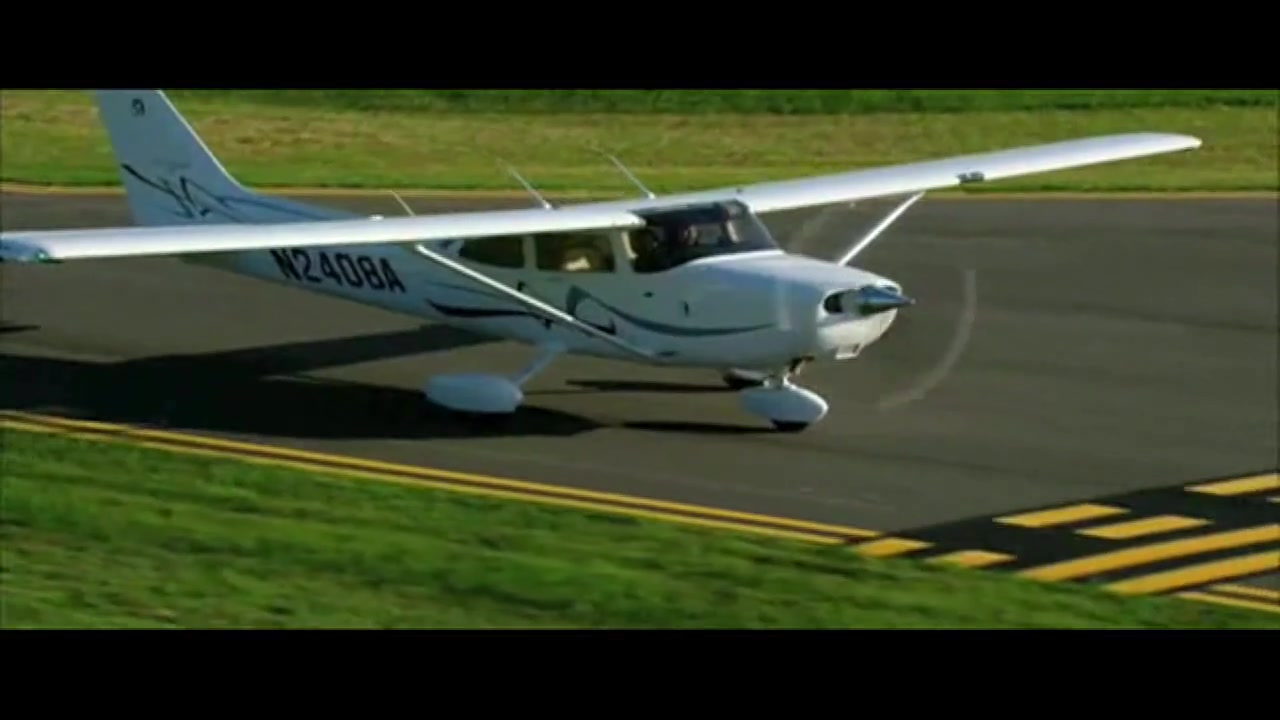aeroplane: (2, 89, 1201, 434)
